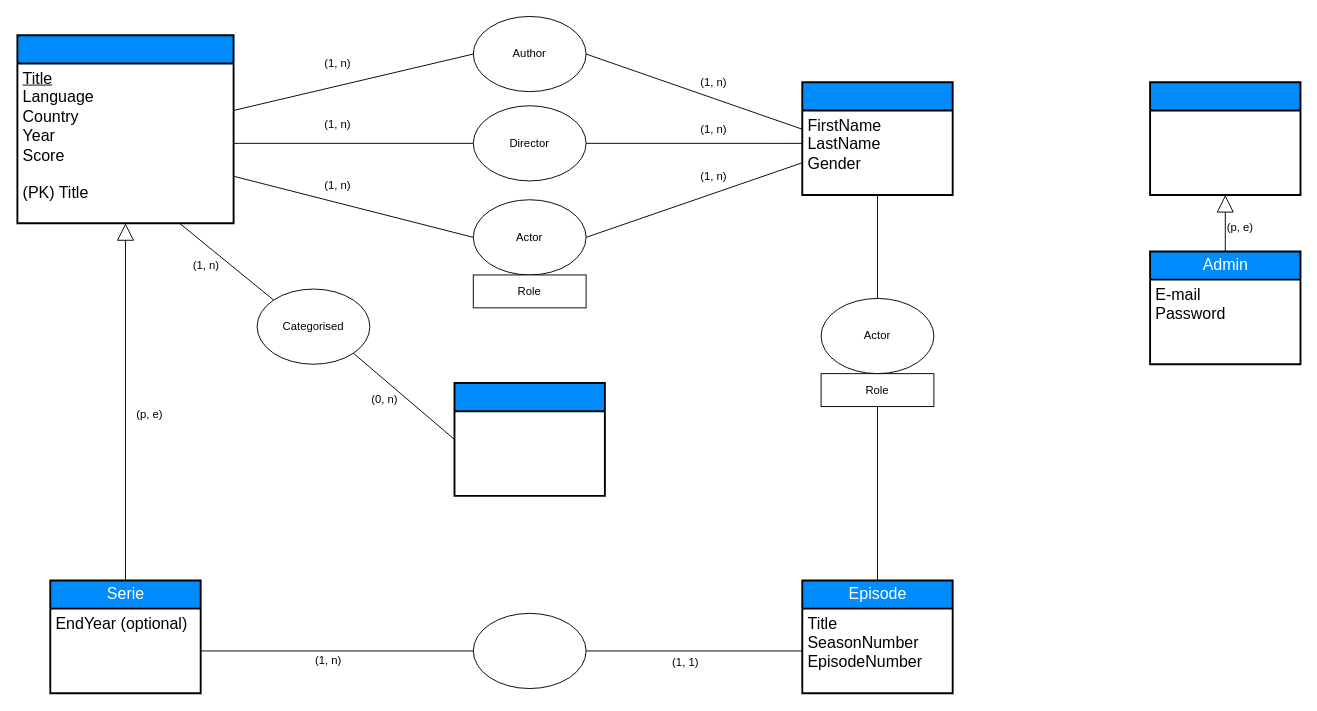
This 1317x711 diagram has some shape labels left out. Here are the shapes that lost their labels. From the top down, the box of each, then its label:
(16, 34, 234, 224): Film
(801, 81, 953, 196): Person
(1149, 81, 1301, 196): Utilizateur
(453, 382, 605, 496): Genre
(472, 612, 586, 689): is composed by
